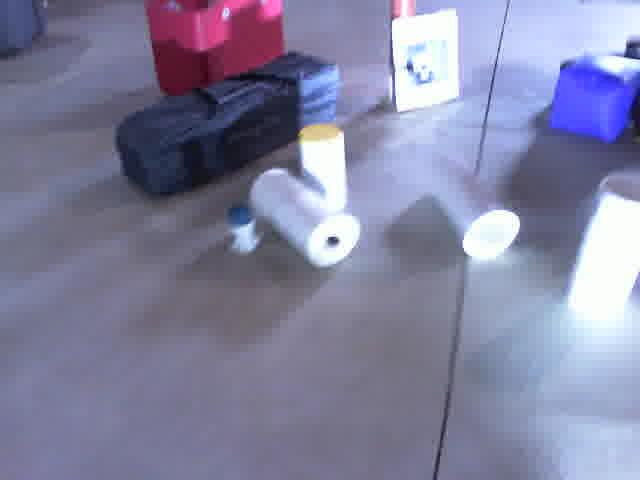coral: (417, 143, 525, 262), (566, 169, 640, 325)
